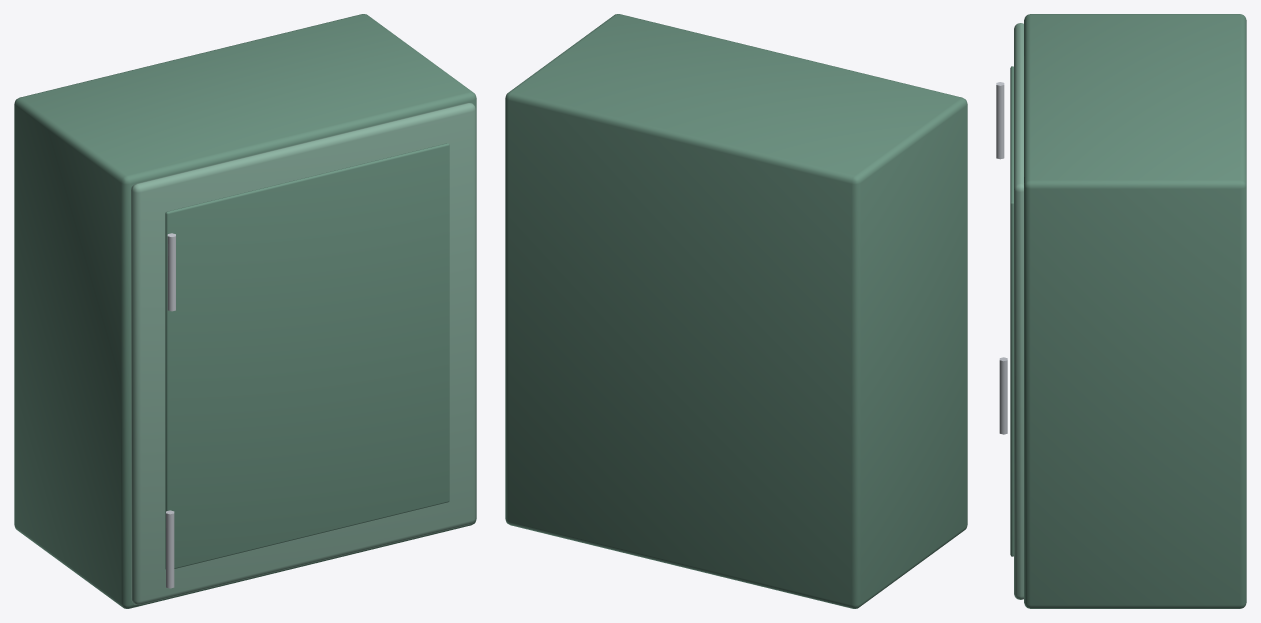
The model's file is upper_cabinet.glb.
3 renders of one model, left to right at view 1: azimuth 30°, elevation 25°; view 2: azimuth 150°, elevation 25°; view 3: azimuth 270°, elevation 25°, orthographic.
Visible parts, largest first — view 1: upper_cabinet, handle; view 2: upper_cabinet; view 3: upper_cabinet, handle.
Boxes of the visible parts, x1,y1,x2,y2 form: upper_cabinet: (14,14,476,608); handle: (167,233,175,311); upper_cabinet: (505,14,967,608); upper_cabinet: (999,14,1246,608); handle: (996,82,1004,159).
Bounding box in the file's own units: 0.6 × 0.7 × 0.3711.
